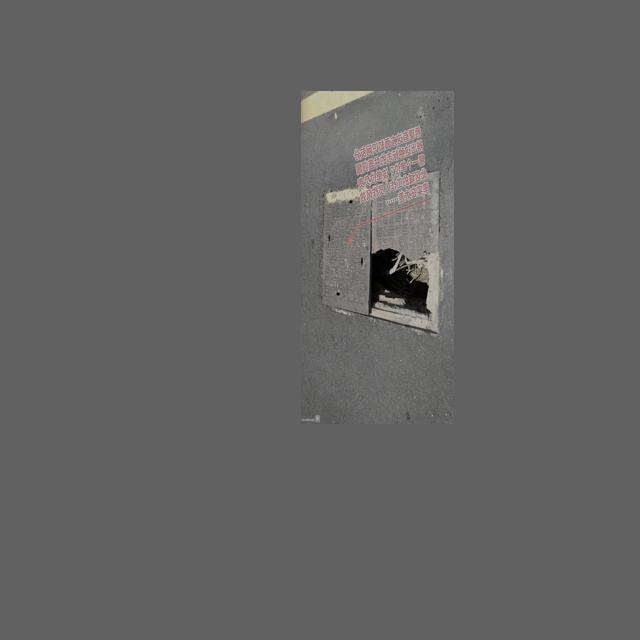broke: (314, 165, 448, 333)
